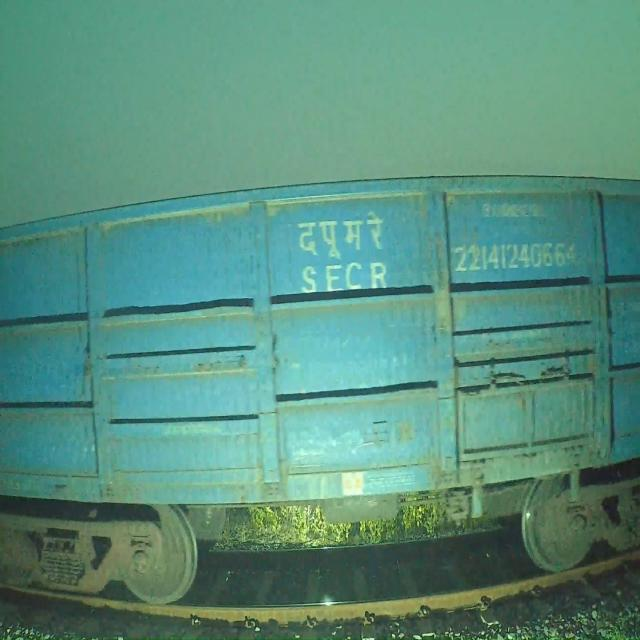WAgon-uic: (0, 166, 640, 609)
uic: (447, 230, 592, 279)
